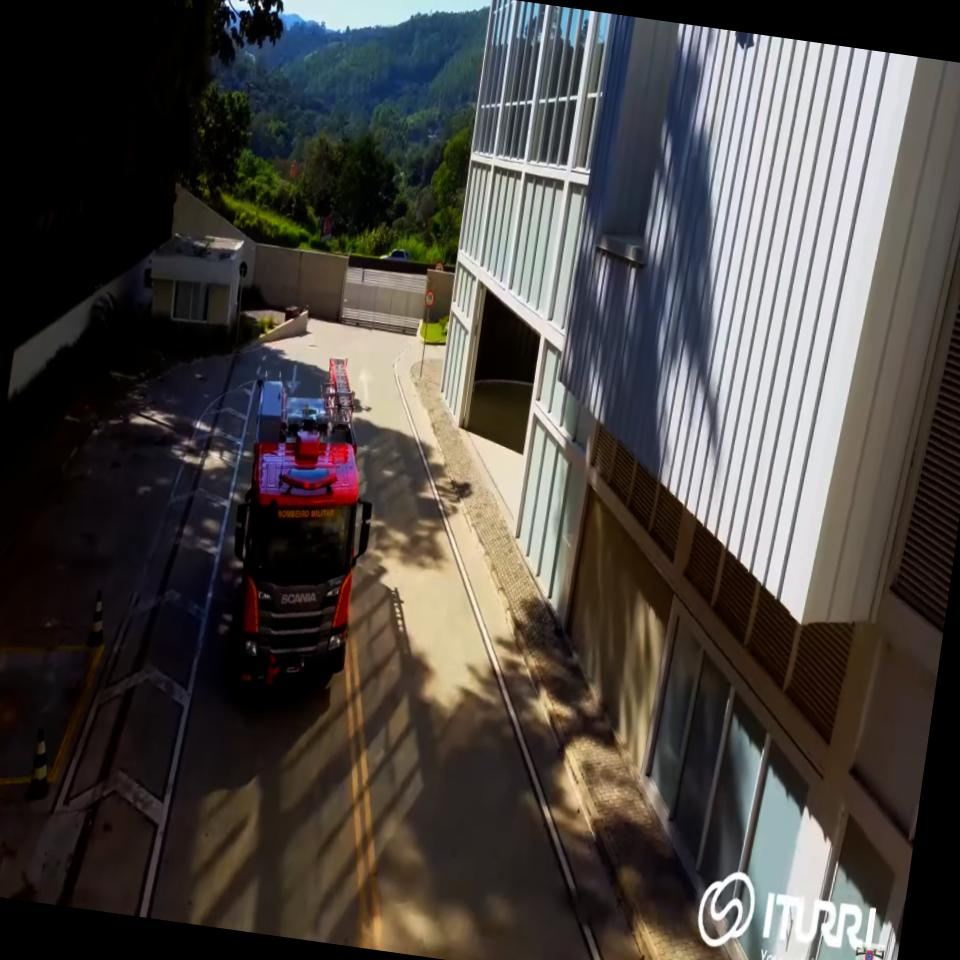viatura: (205, 346, 397, 720)
